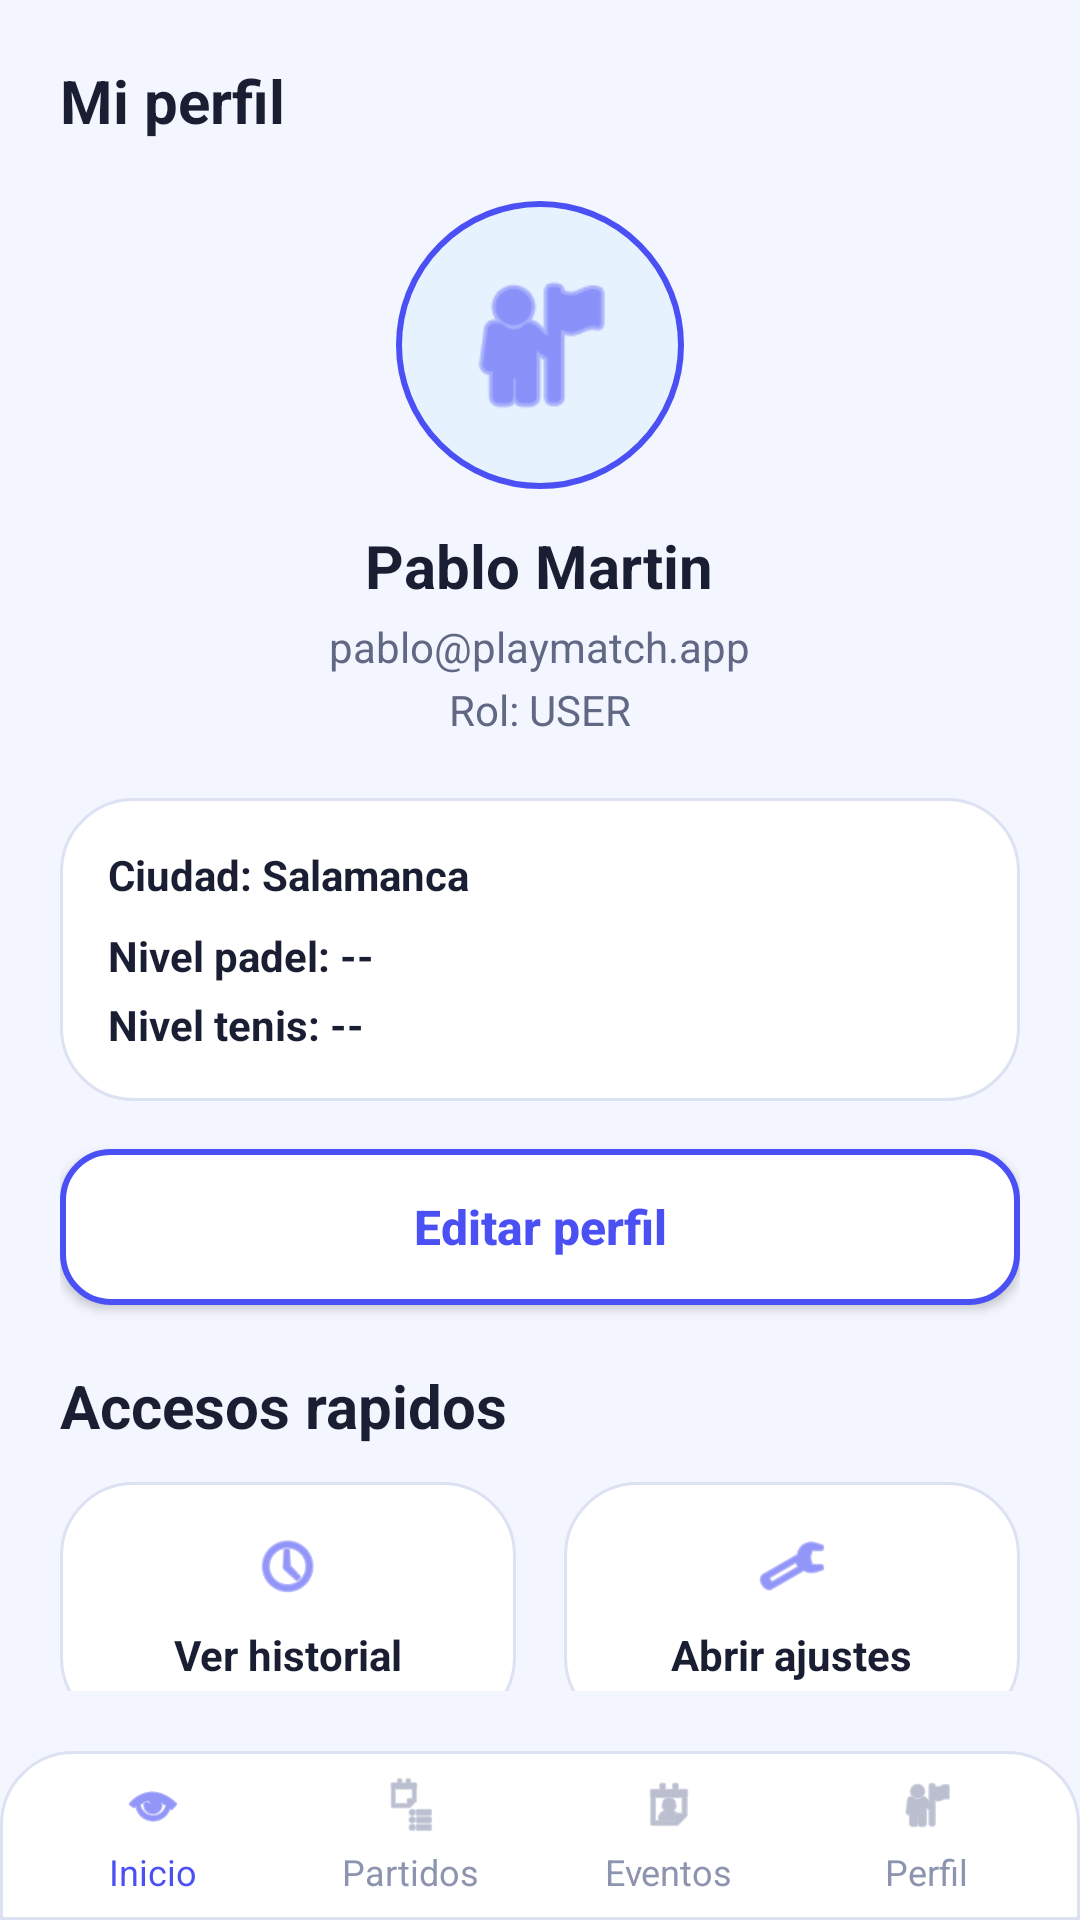

Named icons in this screenshot (1080 × 1920) and their bounding boxes, box(x1, y1, x2, y2):
agenda: box(390, 1778, 432, 1831)
Avatar del usuario: box(396, 201, 684, 489)
Icono ajustes: box(760, 1541, 824, 1591)
recent history: box(262, 1540, 314, 1592)
